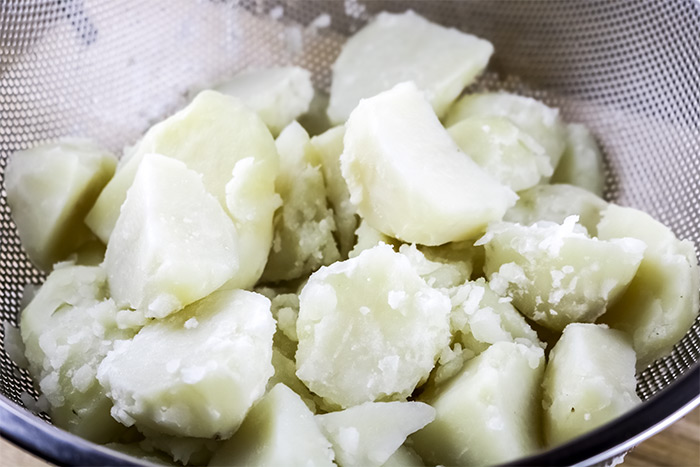boiled potatoes: (63, 72, 618, 444)
